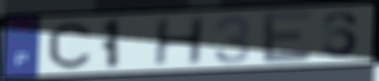1: (99, 16, 124, 72)
3: (212, 14, 252, 65)
6: (322, 10, 360, 59)
C: (46, 21, 94, 70)
E: (261, 9, 314, 65)
H: (151, 15, 206, 67)
